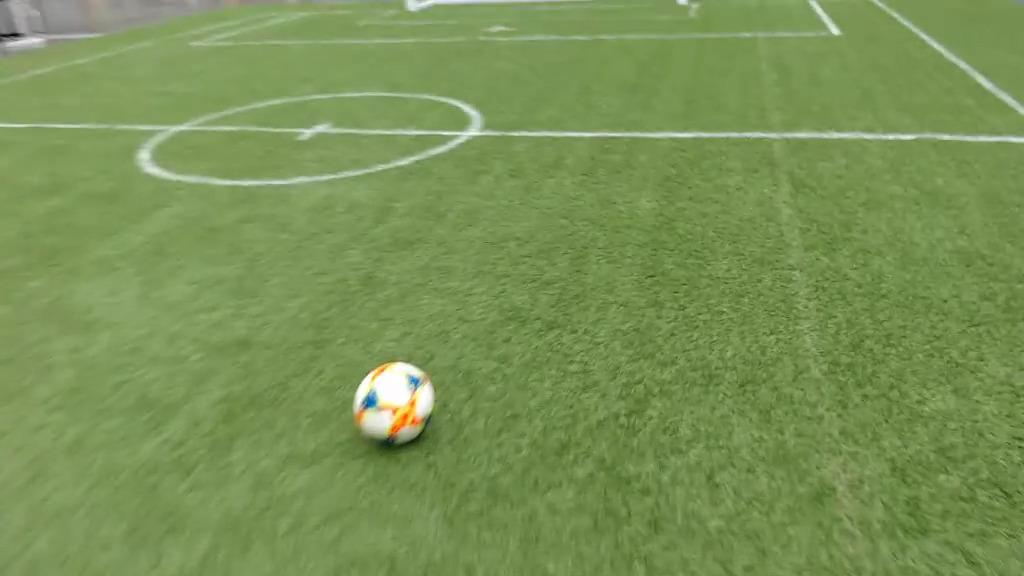ball: (347, 358, 435, 448)
